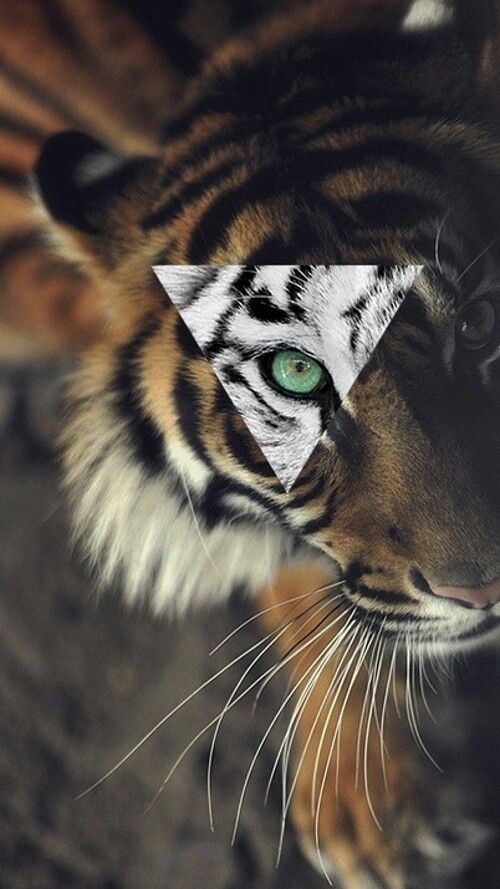Tigrew: (31, 22, 492, 753)
